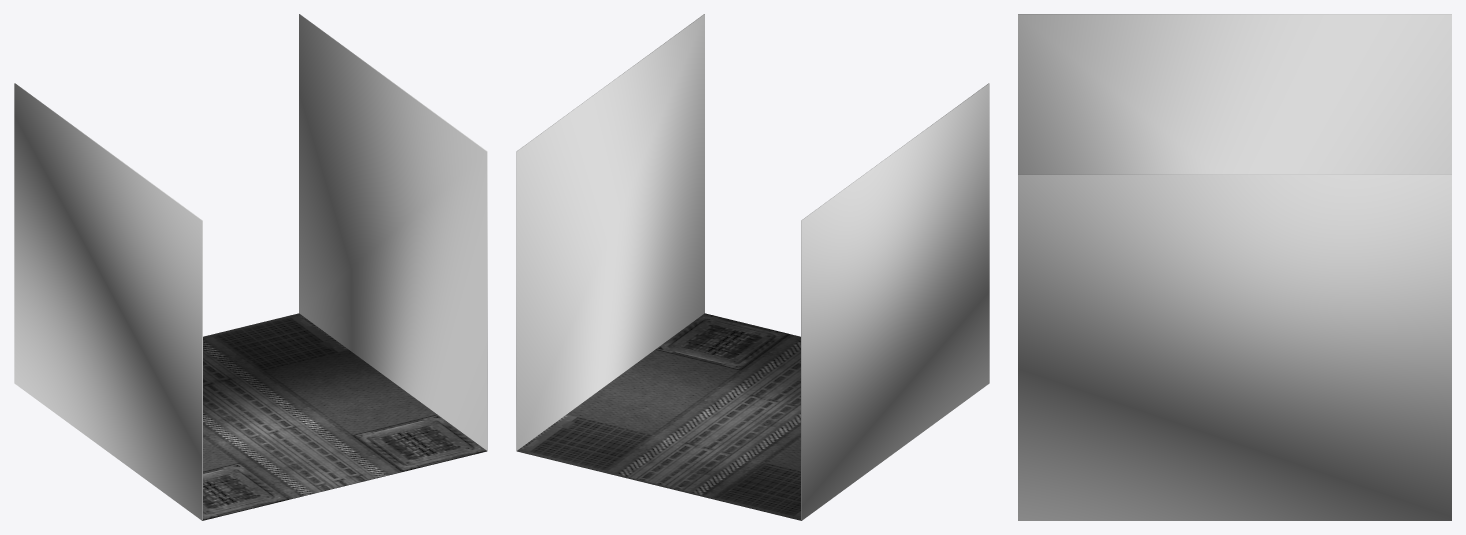
File: corridor_square_shape.fbx
The picture shows the model from 3 angles, left to right: view 1: azimuth 30°, elevation 25°; view 2: azimuth 150°, elevation 25°; view 3: azimuth 270°, elevation 25°; orthographic projection. The views are drawn at different scales.
Parts seen in each view (by area): view 1: corridor_square_shape; view 2: corridor_square_shape; view 3: corridor_square_shape.
Part boxes in pixels (box(x1,y1,x2,y2)): corridor_square_shape: box(14, 14, 487, 520); corridor_square_shape: box(516, 14, 989, 520); corridor_square_shape: box(1018, 14, 1451, 520).
Bounding box in the file's own units: 362 × 364 × 413.
